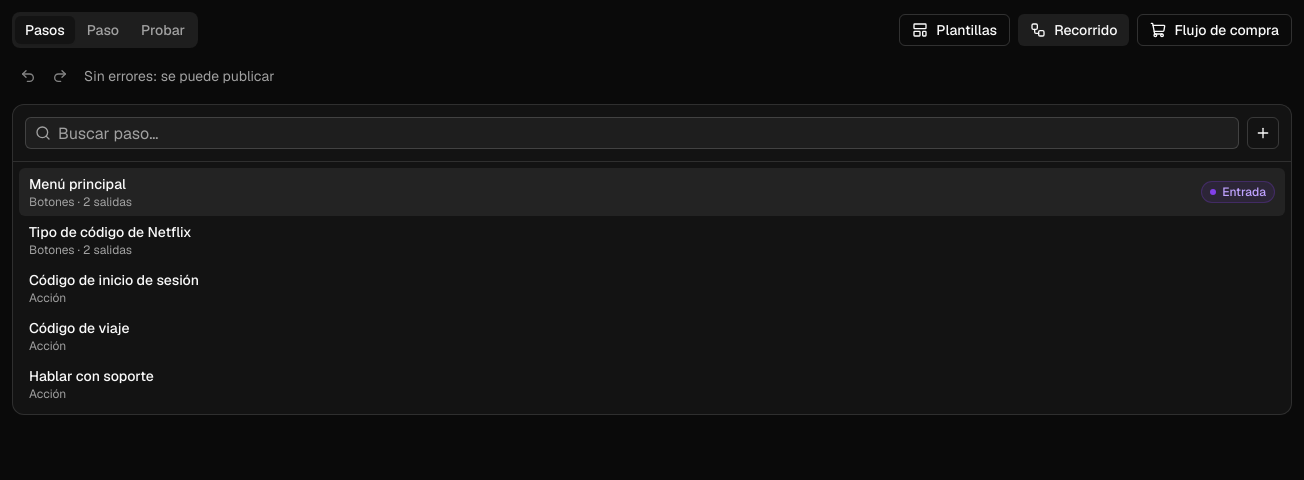
Scenario: deshacer y rehacer › empieza sin historial y habilita los botones tras un cambio
Check: the button named "Deshacer" is disabled, box [12, 60, 44, 92]
Check: the button named "Rehacer" is disabled, box [44, 60, 76, 92]
What coordinates should you click on to do the following:
click the button named "Agregar paso"
I would click on:
 (1263, 133)
Its box is [1247, 117, 1279, 149].
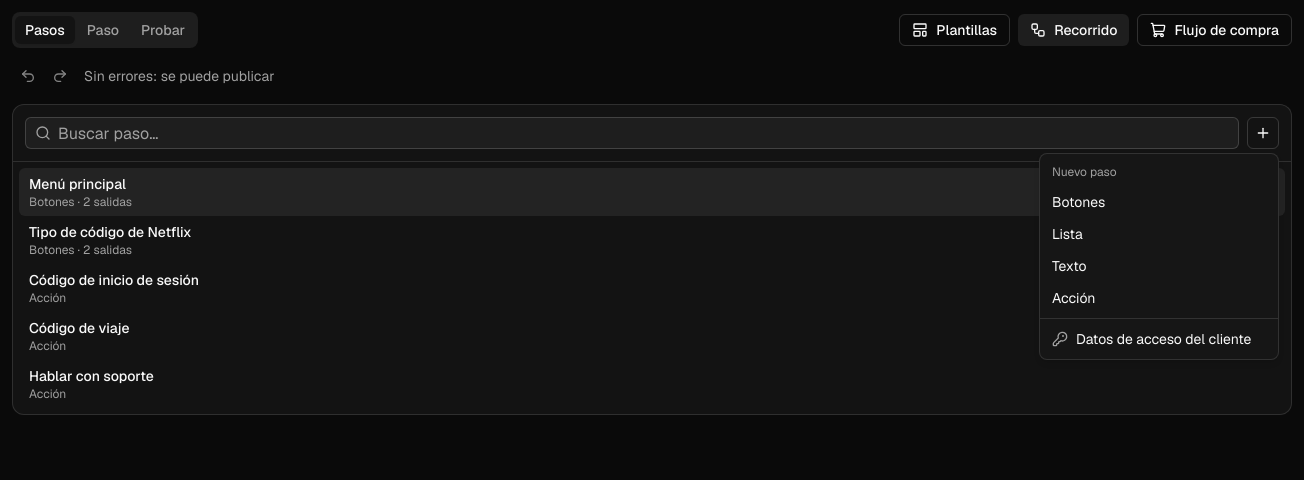
What coordinates should you click on to do the following:
click the menu item "Texto"
I would click on:
 (1069, 266)
Its box is [1052, 257, 1086, 275].
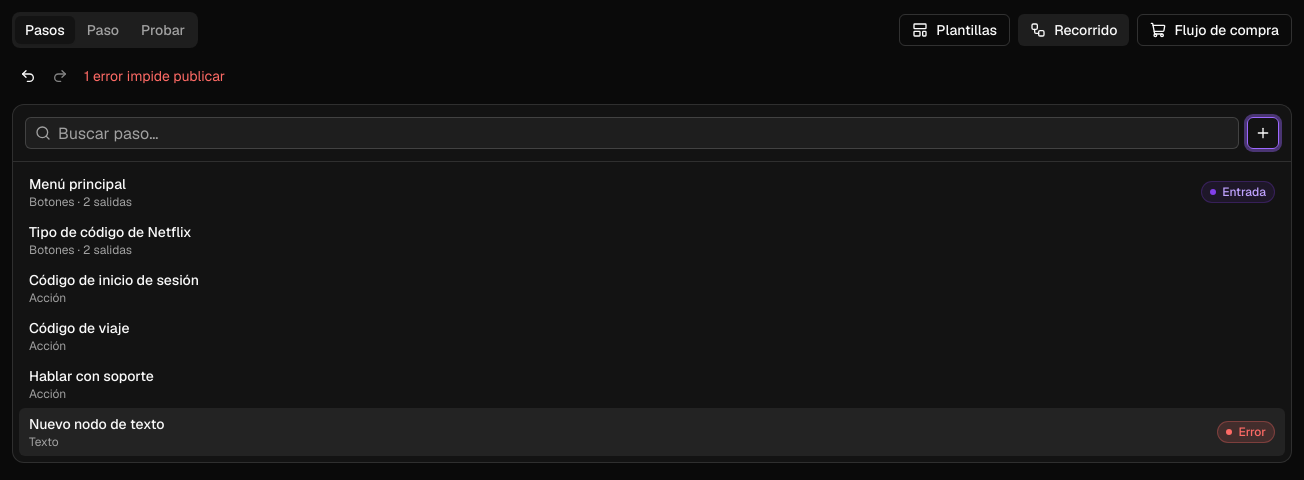
Check: the button named "Deshacer" is enabled, box [12, 60, 44, 92]
